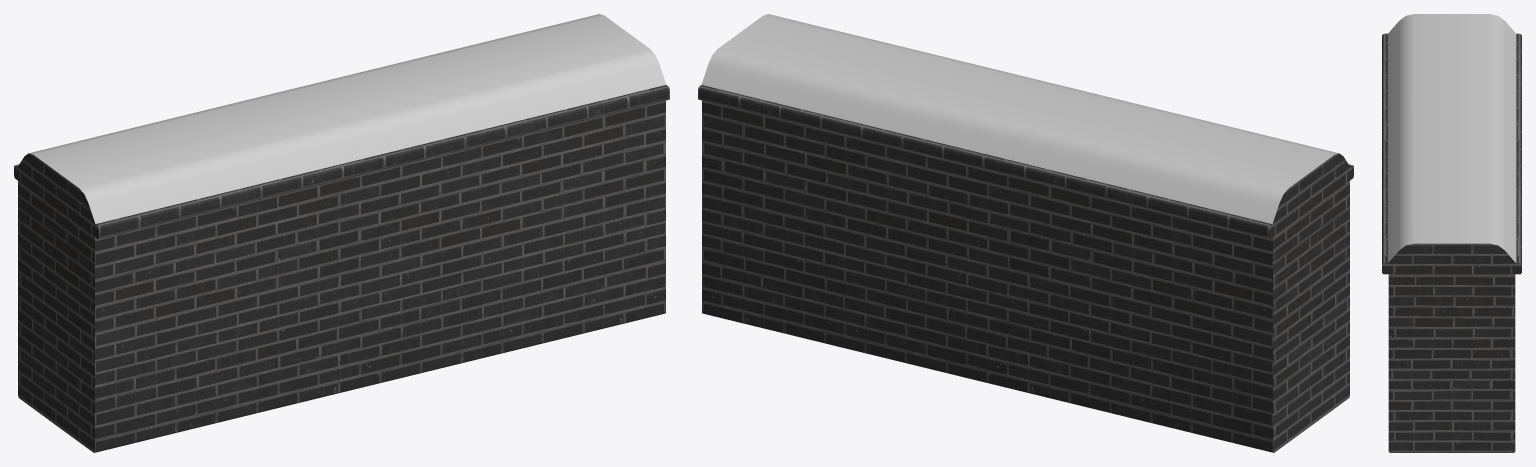
Rendered from SM_GH_Parapet_003.fbx.
The picture shows the model from 3 angles, left to right: view 1: azimuth 30°, elevation 25°; view 2: azimuth 150°, elevation 25°; view 3: azimuth 270°, elevation 25°; orthographic projection. The views are drawn at different scales.
Parts seen in each view (by area): view 1: SM_GH_Parapet_003; view 2: SM_GH_Parapet_003; view 3: SM_GH_Parapet_003.
Part boxes in pixels (box(x1,y1,x2,y2)): SM_GH_Parapet_003: box(14, 14, 669, 452); SM_GH_Parapet_003: box(698, 14, 1353, 452); SM_GH_Parapet_003: box(1382, 14, 1521, 452).
Bounding box in the file's own units: 379 × 97.5 × 161.
